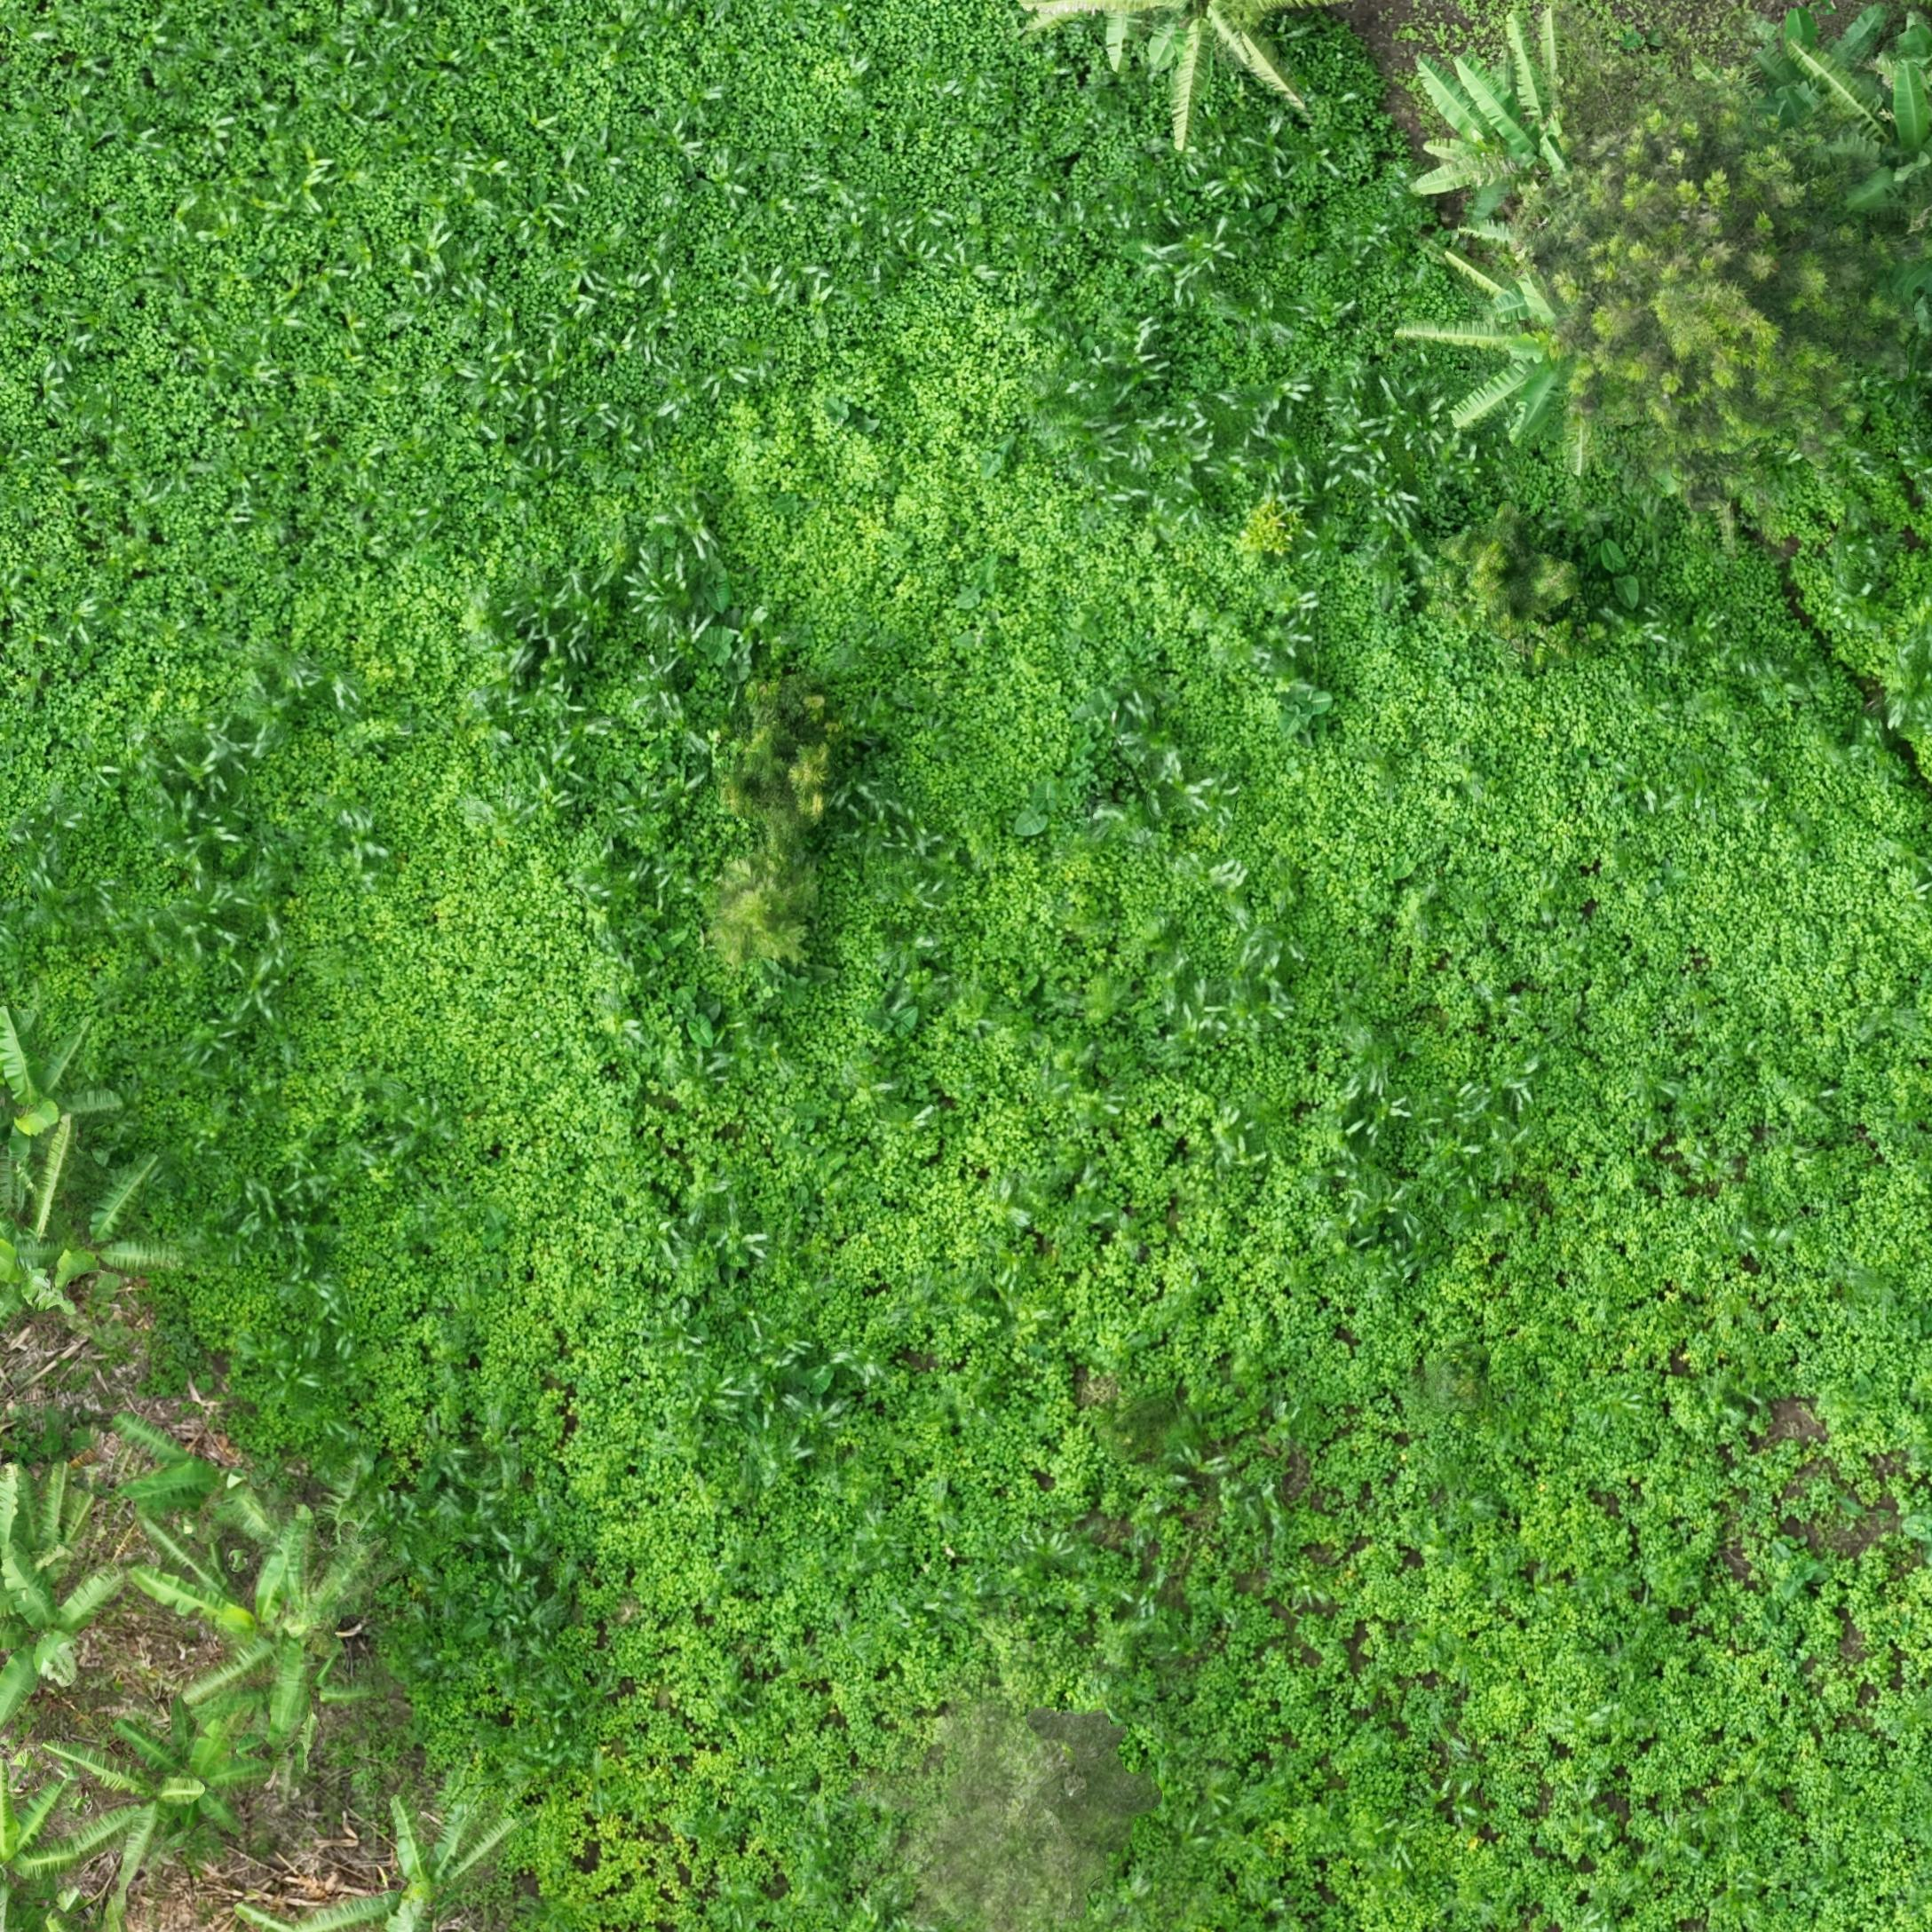Banana: (134, 1578, 382, 1798), (1456, 257, 1660, 492), (1468, 11, 1631, 219), (106, 1762, 276, 1923), (4, 1615, 136, 1803), (117, 1470, 288, 1612), (27, 1198, 179, 1334), (304, 1856, 533, 1932), (2, 1044, 131, 1171), (4, 1504, 97, 1647), (2, 1835, 90, 1932), (1196, 18, 1231, 101), (1141, 18, 1180, 71)
